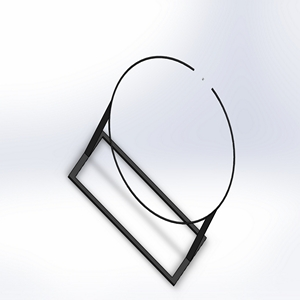circle: (66, 52, 237, 287)
